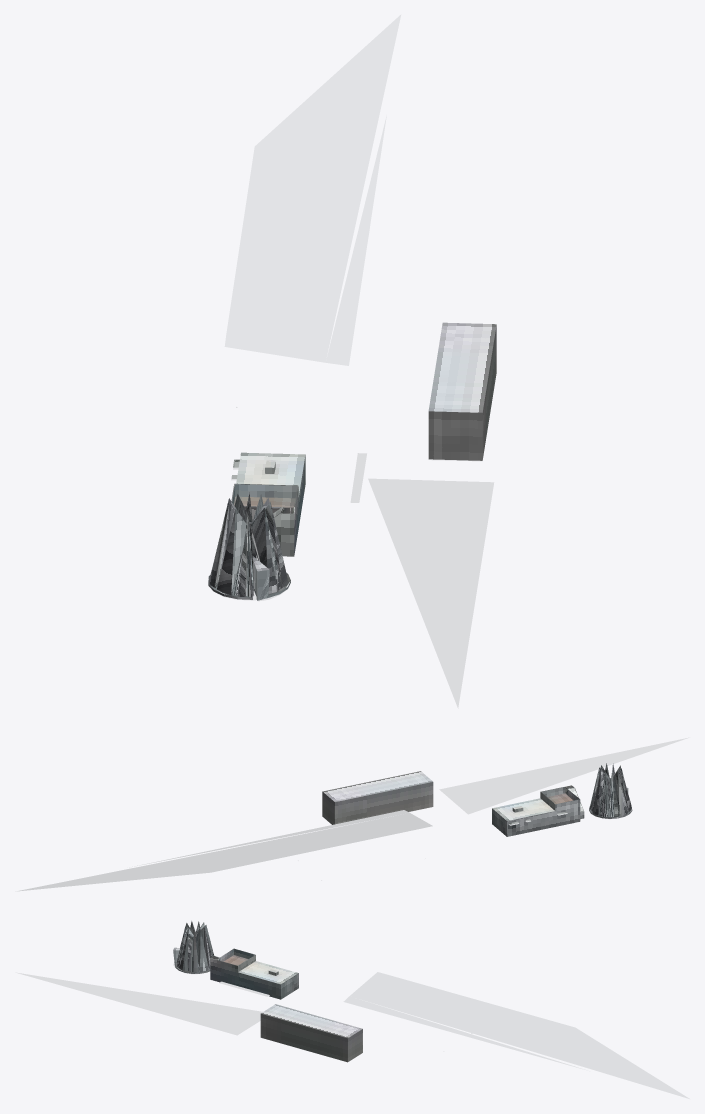
3 renders of one model, top to bottom at view 1: azimuth 30°, elevation 25°; view 2: azimuth 150°, elevation 25°; view 3: azimuth 270°, elevation 25°, orthographic. The views are drawn at different scales.
Visible parts, largest first — view 1: Buildings_建物パビリオン; view 2: Buildings_建物パビリオン; view 3: Buildings_建物パビリオン.
Part boxes in pixels (x1,y1,x2,y2): Buildings_建物パビリオン: [208, 14, 496, 708]; Buildings_建物パビリオン: [15, 737, 689, 891]; Buildings_建物パビリオン: [15, 921, 689, 1098].
Bounding box in the file's own units: 71.16 × 8.31 × 122.
4 materials, 3 textured.
